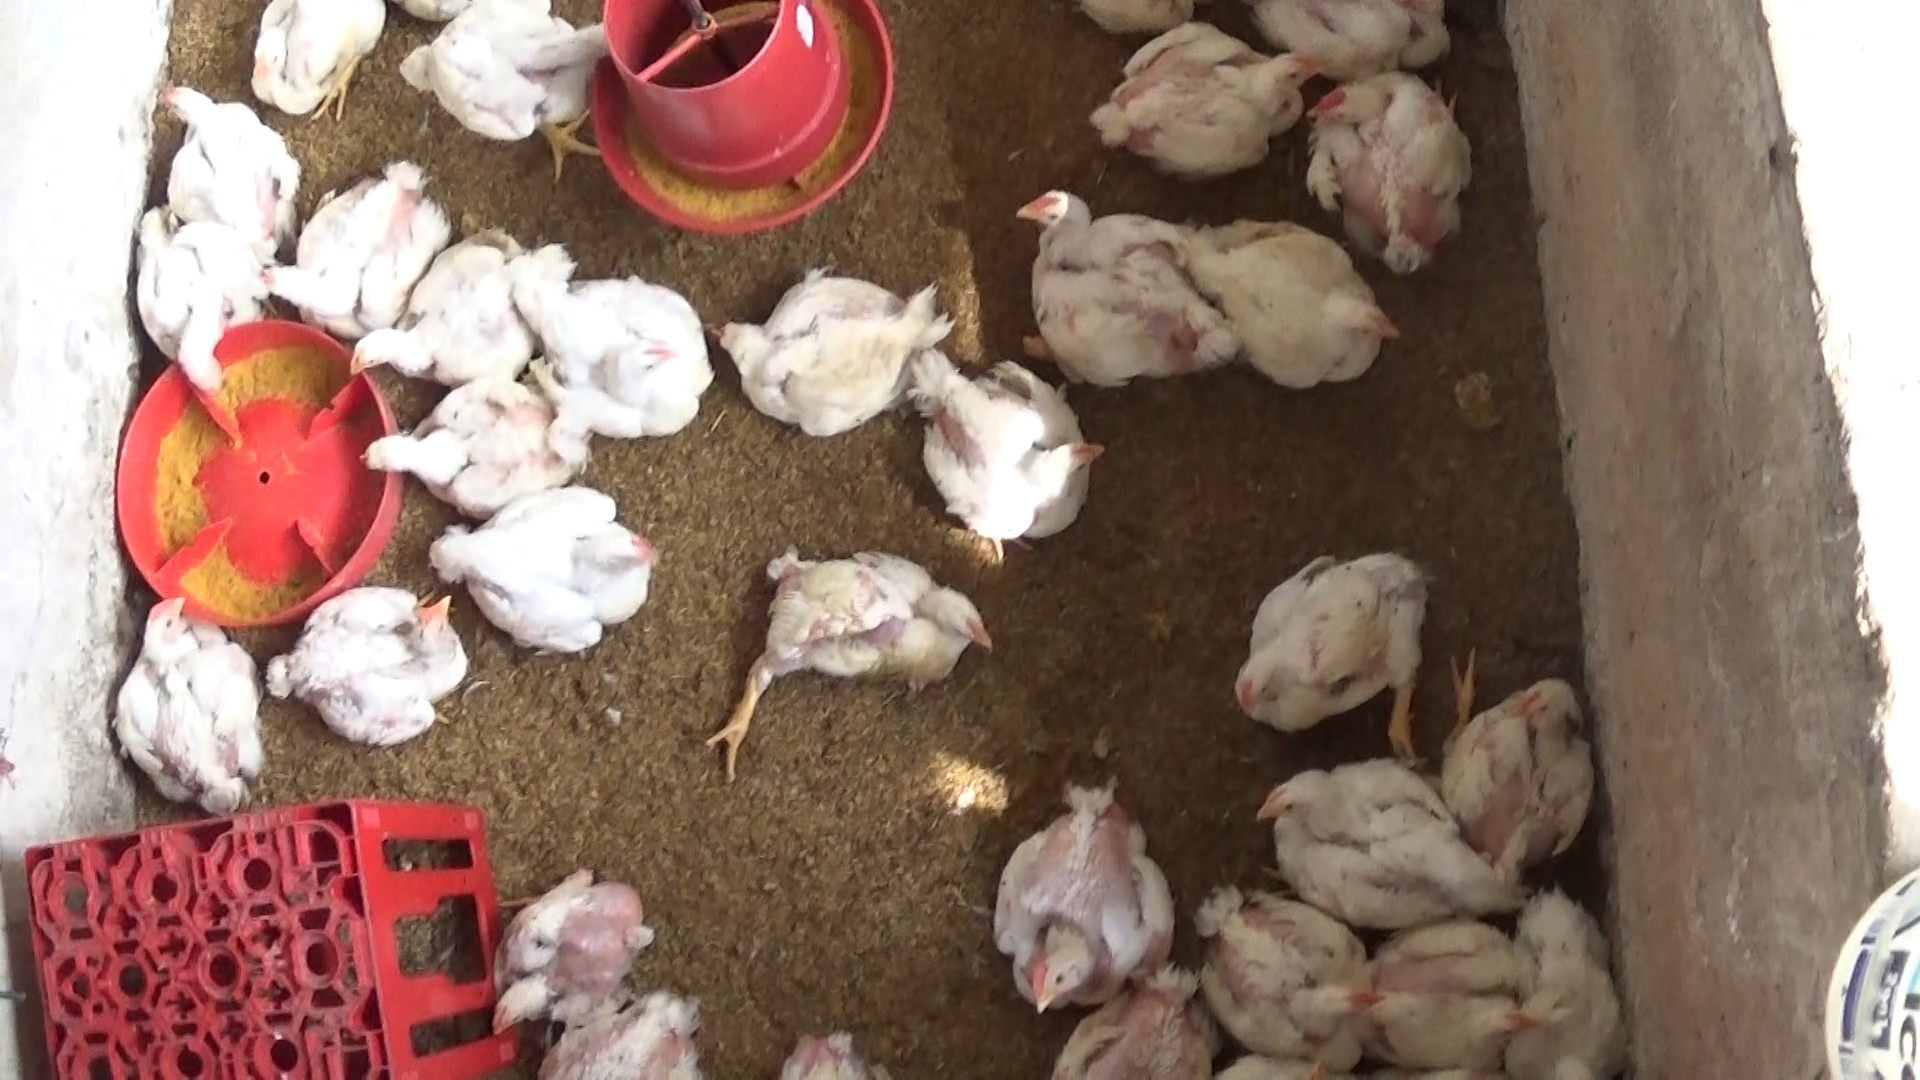Pollos: (707, 542, 1004, 760), (1007, 169, 1246, 404), (1250, 753, 1531, 934), (1225, 541, 1443, 771), (1191, 189, 1420, 406), (972, 756, 1160, 1018), (1077, 22, 1325, 214), (906, 324, 1110, 545), (426, 472, 662, 653), (526, 257, 717, 477), (142, 69, 326, 289), (404, 7, 646, 173), (702, 268, 942, 434), (256, 576, 476, 752), (255, 142, 444, 342), (1436, 642, 1594, 877), (360, 372, 589, 533), (1296, 62, 1468, 277), (107, 585, 262, 822), (342, 223, 553, 396), (1191, 873, 1389, 1056), (471, 855, 659, 1029), (1373, 891, 1538, 1080), (117, 198, 261, 413), (1520, 841, 1640, 1080), (1025, 961, 1228, 1080), (236, 0, 390, 113)
